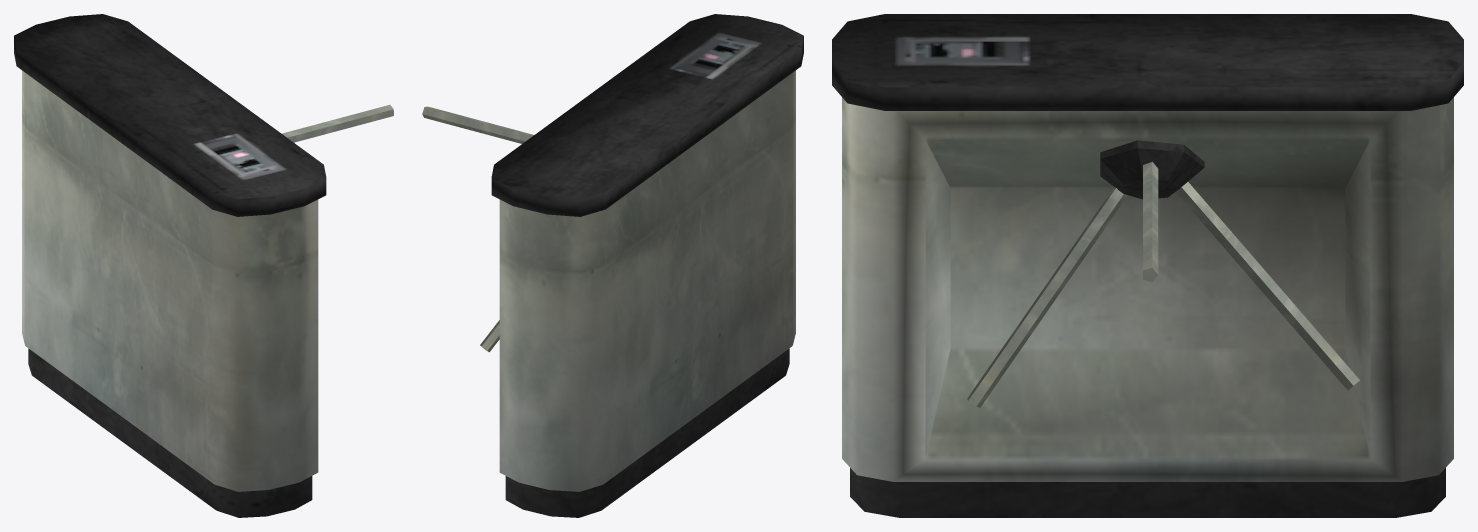
File: Turnike.fbx
3 views of the same model, side by side, from view 1: azimuth 30°, elevation 25°; view 2: azimuth 150°, elevation 25°; view 3: azimuth 270°, elevation 25° (orthographic). The views are drawn at different scales.
Visible parts, largest first — view 1: automatic_ticket_gate_D.016, automatic_ticket_gate_D.015; view 2: automatic_ticket_gate_D.016, automatic_ticket_gate_D.015; view 3: automatic_ticket_gate_D.016, automatic_ticket_gate_D.015.
Boxes of the visible parts, x1,y1,x2,y2 form: automatic_ticket_gate_D.016: [14, 14, 326, 517]; automatic_ticket_gate_D.015: [282, 104, 393, 142]; automatic_ticket_gate_D.016: [491, 14, 803, 517]; automatic_ticket_gate_D.015: [422, 106, 533, 352]; automatic_ticket_gate_D.016: [832, 14, 1463, 517]; automatic_ticket_gate_D.015: [967, 140, 1359, 407].
Bounding box in the file's own units: 97.1 × 109 × 142.
